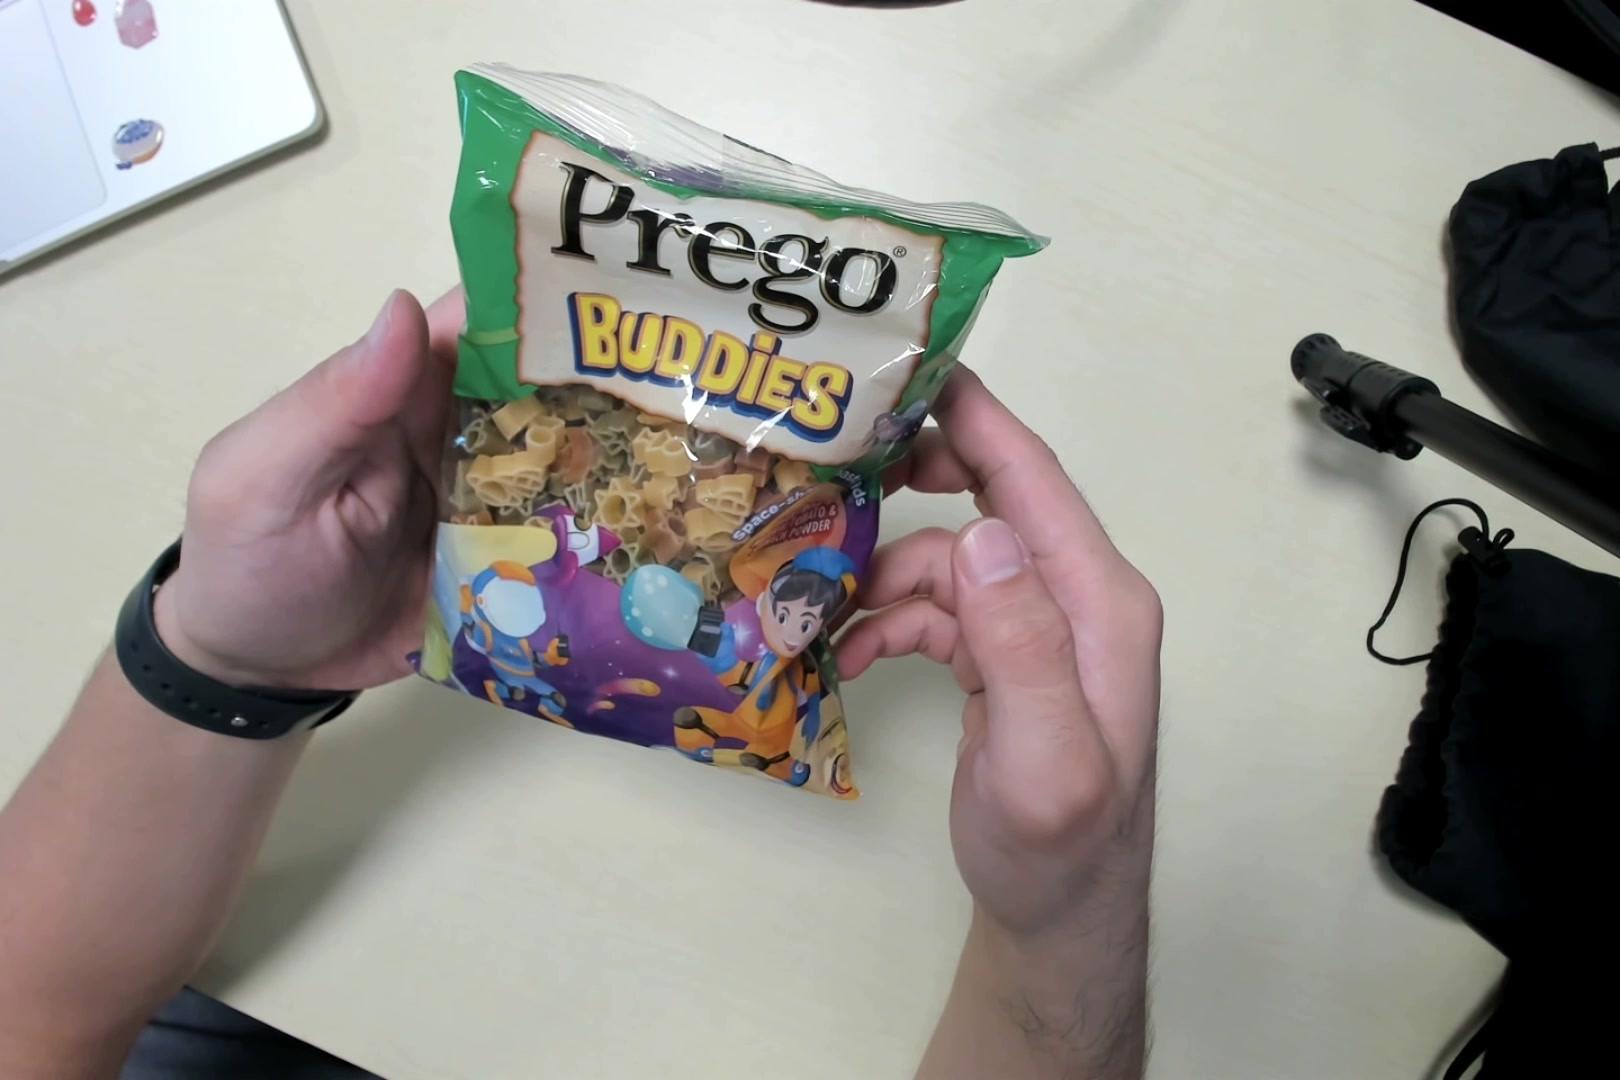Pasta_200-299g_Halal_NonHealthy: (429, 74, 997, 798)
